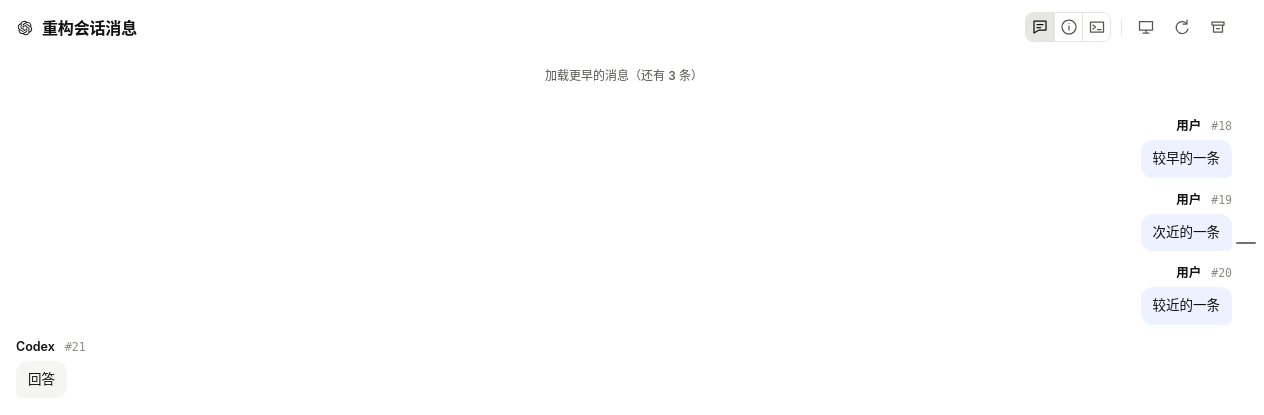
it: jumps to an unloaded user message by loading a window around it
Click the button named "很久以前的提问": (1248, 243) [1236,238,1260,248]
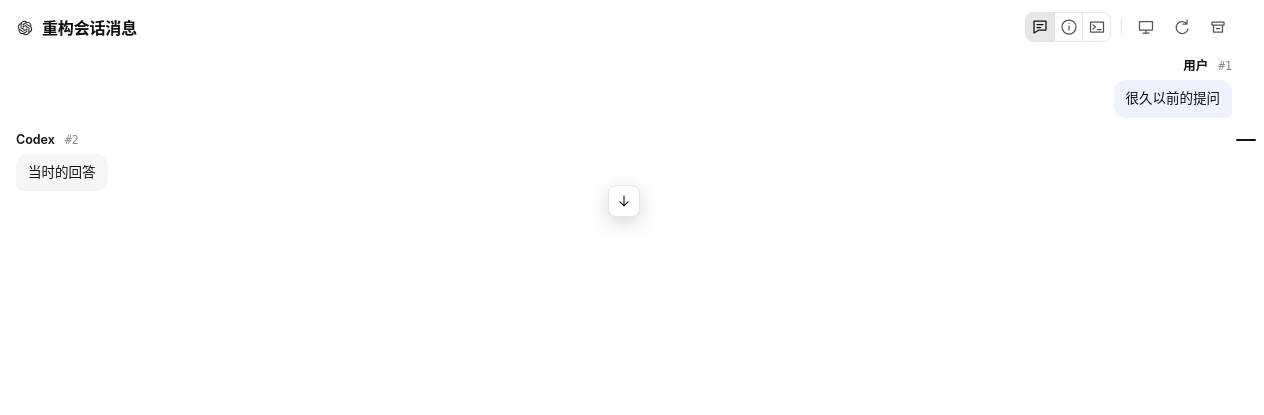
Result: the button "很久以前的提问" is shown at [1114,80,1232,118]
Result: the button "较近的一条" is gone
